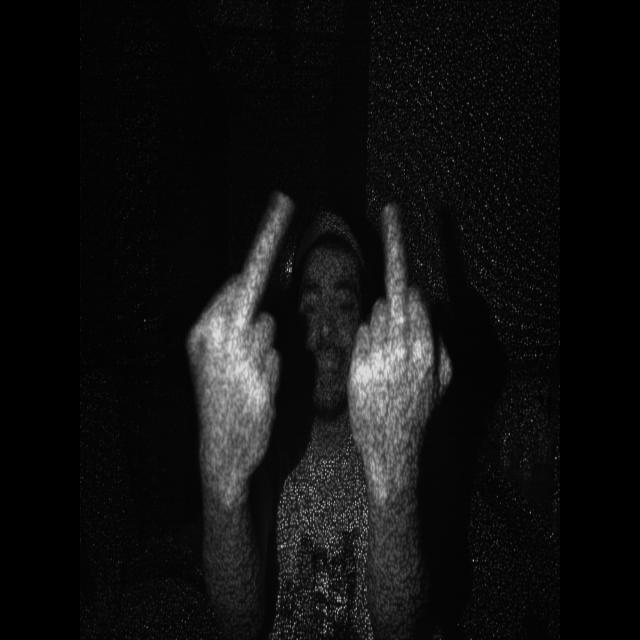FUCK YOU: (184, 172, 306, 499), (337, 192, 462, 504)
